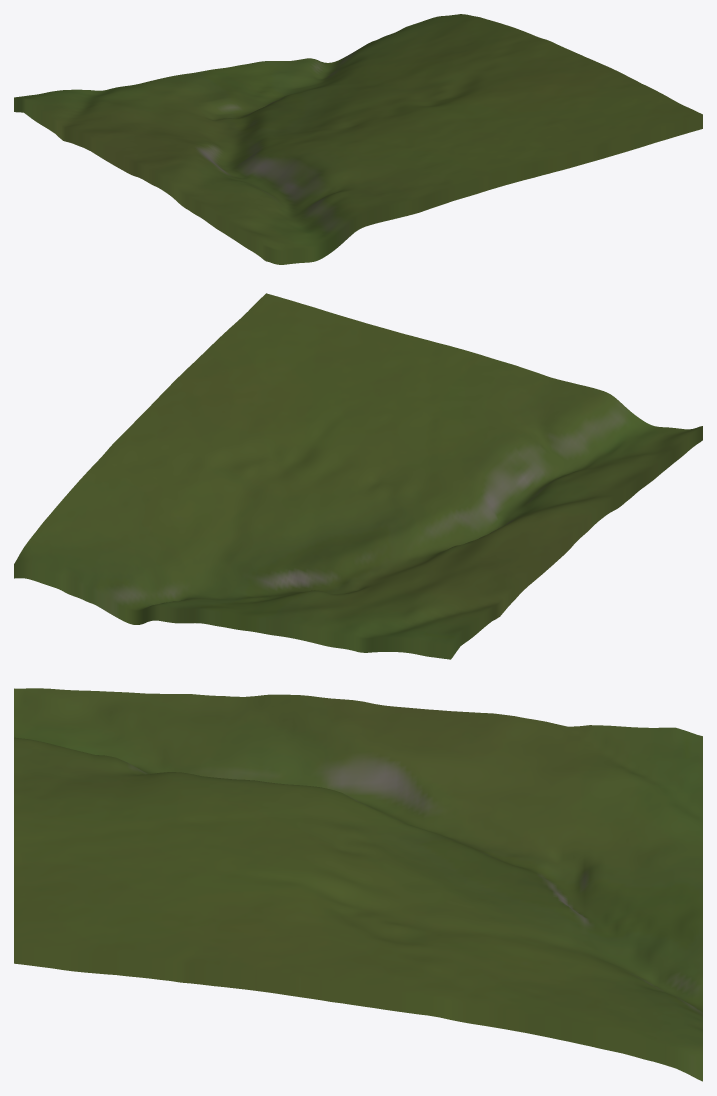
File: terrain_4_-10.glb
3 renders of one model, top to bottom at view 1: azimuth 30°, elevation 25°; view 2: azimuth 150°, elevation 25°; view 3: azimuth 270°, elevation 25°, orthographic. The views are drawn at different scales.
Parts seen in each view (by area): view 1: terrain_4_-10; view 2: terrain_4_-10; view 3: terrain_4_-10.
Boxes of the visible parts, x1,y1,x2,y2 form: terrain_4_-10: (14, 14, 702, 264); terrain_4_-10: (14, 293, 702, 659); terrain_4_-10: (14, 688, 702, 1081).
Bounding box in the file's own units: 256 × 66 × 256.
